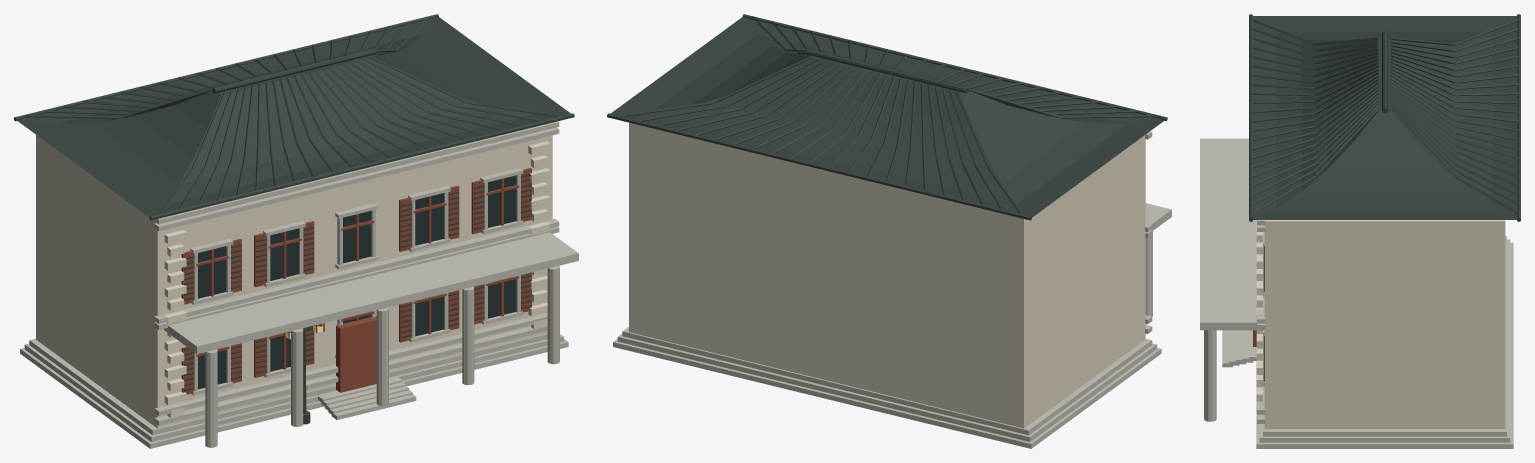
The model's file is beishan-arcade.glb.
3 renders of one model, left to right at view 1: azimuth 30°, elevation 25°; view 2: azimuth 150°, elevation 25°; view 3: azimuth 270°, elevation 25°, orthographic.
Visible parts, largest first — view 1: Dark_Tile, Limestone, White_Plaster, Lacquered_Wood, Deep_Glazing, Patinated_Iron; view 2: White_Plaster, Dark_Tile, Limestone; view 3: Dark_Tile, White_Plaster, Limestone.
Boxes of the visible parts, x1=… form: Dark_Tile: x1=14, y1=14, x2=574, y2=220; Limestone: x1=20, y1=121, x2=578, y2=448; White_Plaster: x1=36, y1=135, x2=552, y2=428; Lacquered_Wood: x1=181, y1=168, x2=531, y2=394; Deep_Glazing: x1=198, y1=175, x2=516, y2=389; Patinated_Iron: x1=184, y1=174, x2=531, y2=424; White_Plaster: x1=629, y1=122, x2=1145, y2=428; Dark_Tile: x1=607, y1=14, x2=1167, y2=220; Limestone: x1=613, y1=131, x2=1171, y2=448; Dark_Tile: x1=1249, y1=14, x2=1520, y2=221; White_Plaster: x1=1256, y1=220, x2=1505, y2=428; Limestone: x1=1200, y1=138, x2=1513, y2=448.
Bounding box in the file's own units: 12.84 × 8.18 × 8.54.
